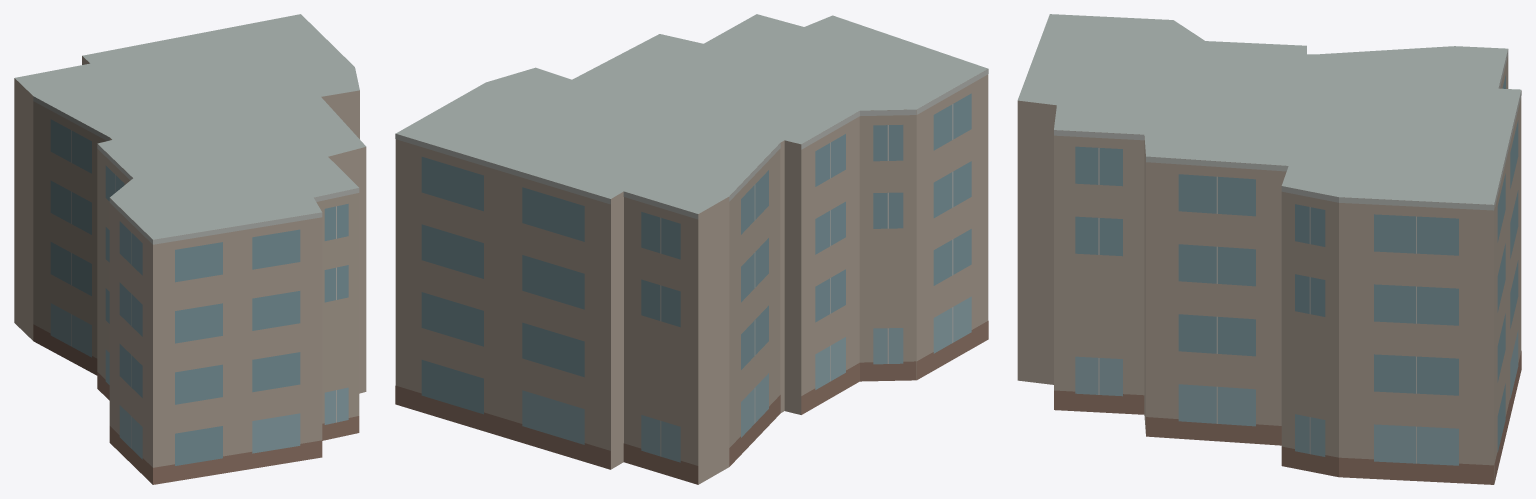
File: survey-upis-32644442.glb
3 views of the same model, side by side, from view 1: azimuth 30°, elevation 25°; view 2: azimuth 150°, elevation 25°; view 3: azimuth 270°, elevation 25° (orthographic). The views are drawn at different scales.
Visible parts, largest first — view 1: survey-upis-32644442.tmp; view 2: survey-upis-32644442.tmp; view 3: survey-upis-32644442.tmp.
Part boxes in pixels (box(x1,y1,x2,y2)): survey-upis-32644442.tmp: box(14, 14, 366, 484); survey-upis-32644442.tmp: box(395, 14, 988, 484); survey-upis-32644442.tmp: box(1017, 14, 1521, 484).
Size of the model in its own units: 17.62 by 12.05 by 19.67.
